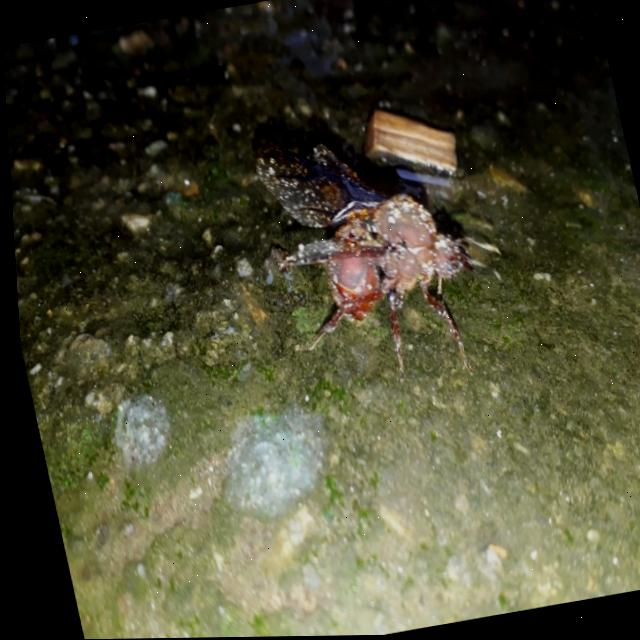Alive-Female-Alate: (247, 111, 523, 405)
